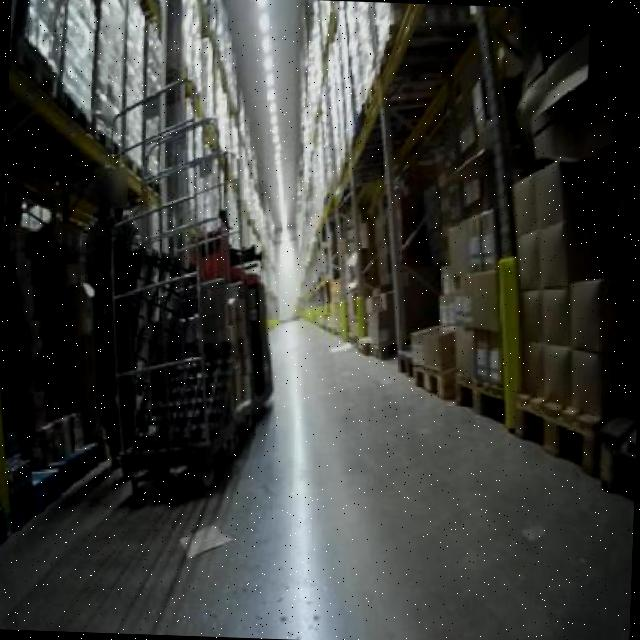pallet: (506, 380, 610, 486), (454, 374, 504, 418), (409, 361, 458, 399)
